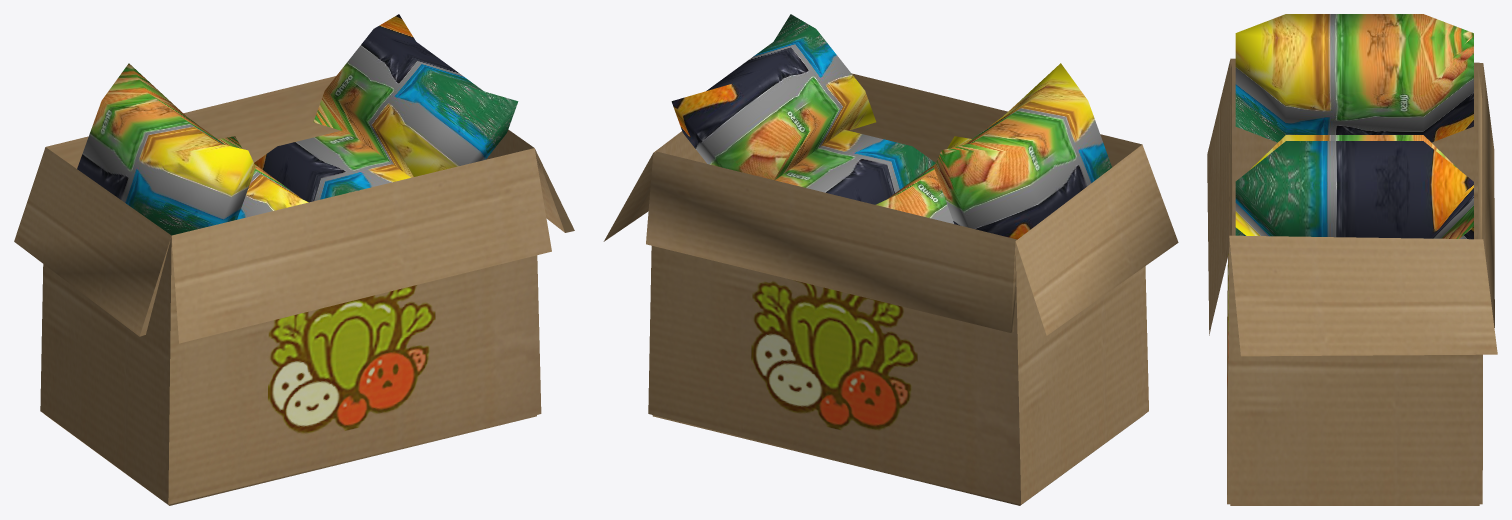
Rendered from OnionBox.fbx.
The picture shows the model from 3 angles, left to right: view 1: azimuth 30°, elevation 25°; view 2: azimuth 150°, elevation 25°; view 3: azimuth 270°, elevation 25°; orthographic projection.
Parts seen in each view (by area): view 1: Frying_09.002; view 2: Frying_09.002; view 3: Frying_09.002.
Boxes of the visible parts, box(x1,y1,x2,y2) form: Frying_09.002: box(14, 14, 574, 505); Frying_09.002: box(603, 14, 1178, 505); Frying_09.002: box(1207, 14, 1497, 505).
Size of the model in its own units: 92.58 by 66.99 by 52.72.
